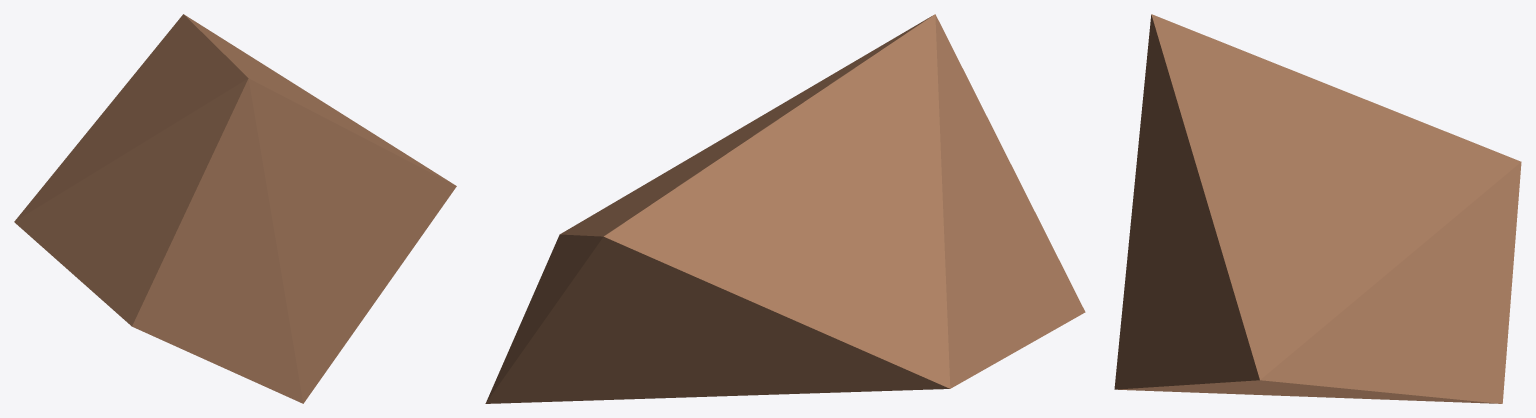
File: stone222341.fbx
3 views of the same model, side by side, from view 1: azimuth 30°, elevation 25°; view 2: azimuth 150°, elevation 25°; view 3: azimuth 270°, elevation 25° (orthographic). The views are drawn at different scales.
Parts seen in each view (by area): view 1: Stone 2.001; view 2: Stone 2.001; view 3: Stone 2.001.
Boxes of the visible parts, x1,y1,x2,y2 form: Stone 2.001: [14, 14, 456, 403]; Stone 2.001: [485, 14, 1085, 403]; Stone 2.001: [1114, 14, 1521, 403].
Size of the model in its own units: 46.96 by 38 by 39.46.
